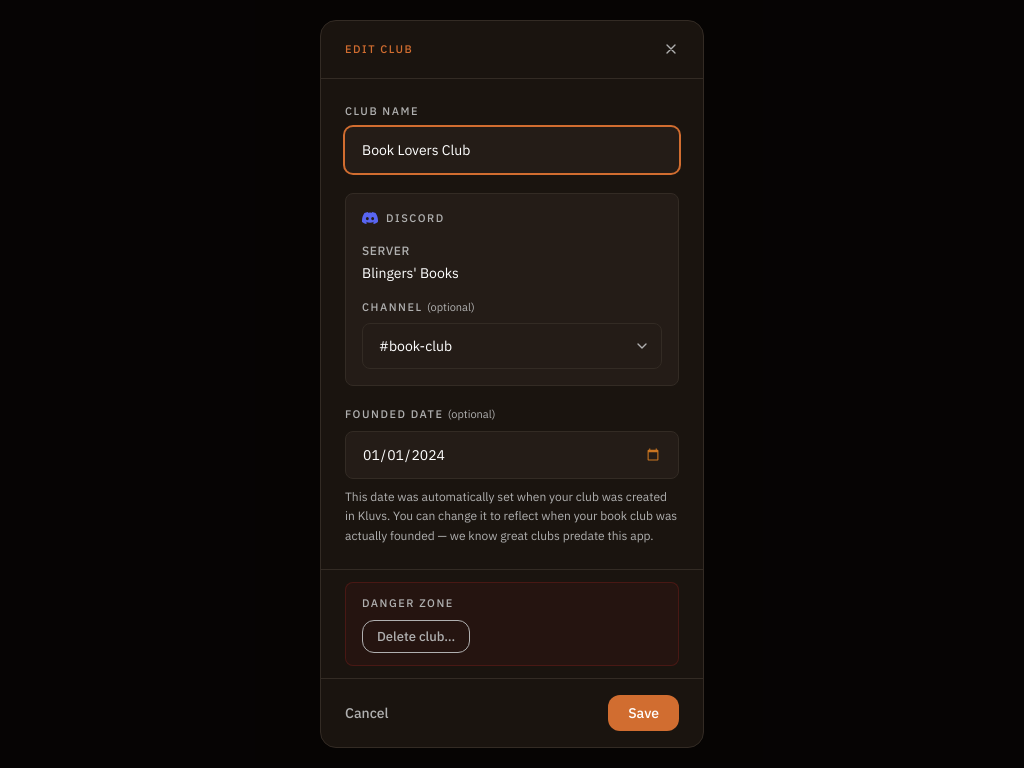
Test: EditClubModal › Name validation › disables Save when name is cleared
This screenshot has width=1024, height=768.
Clear the field with placeholder "e.g., Fantasy Book Club" at [512, 150], box [345, 127, 679, 173]
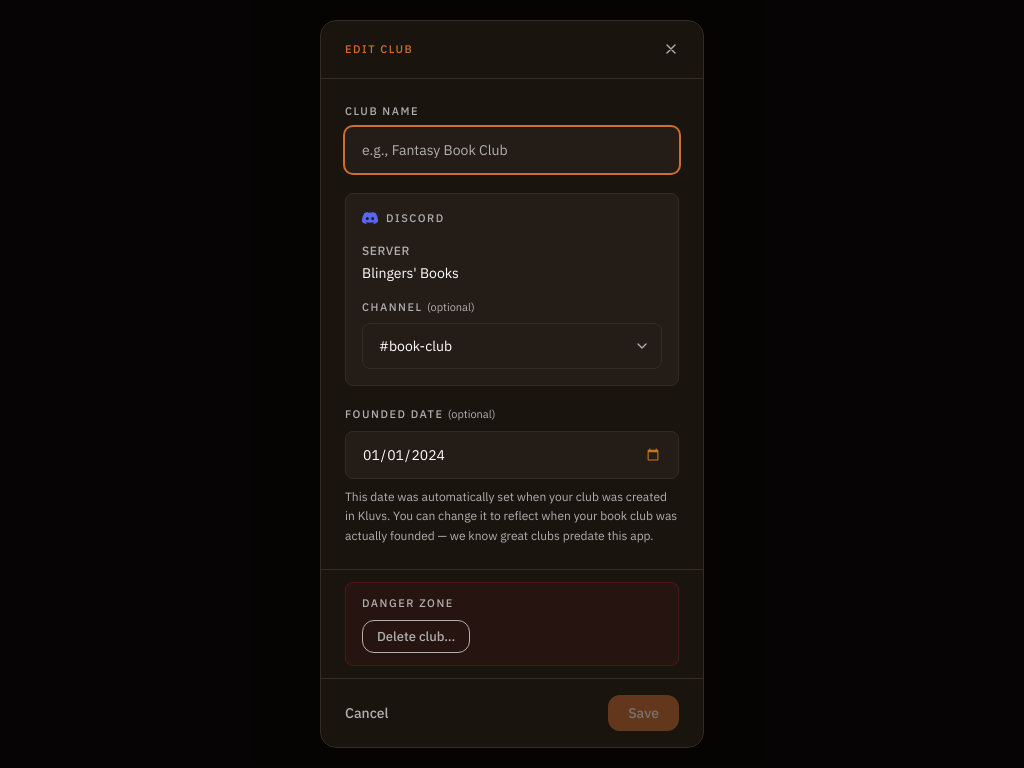
Check: the button "Save" is disabled, box [608, 695, 679, 731]
